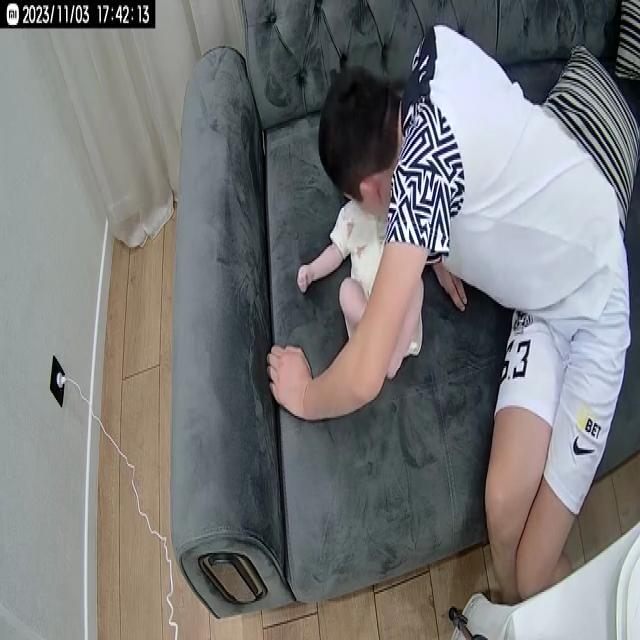baby: (296, 187, 429, 383)
